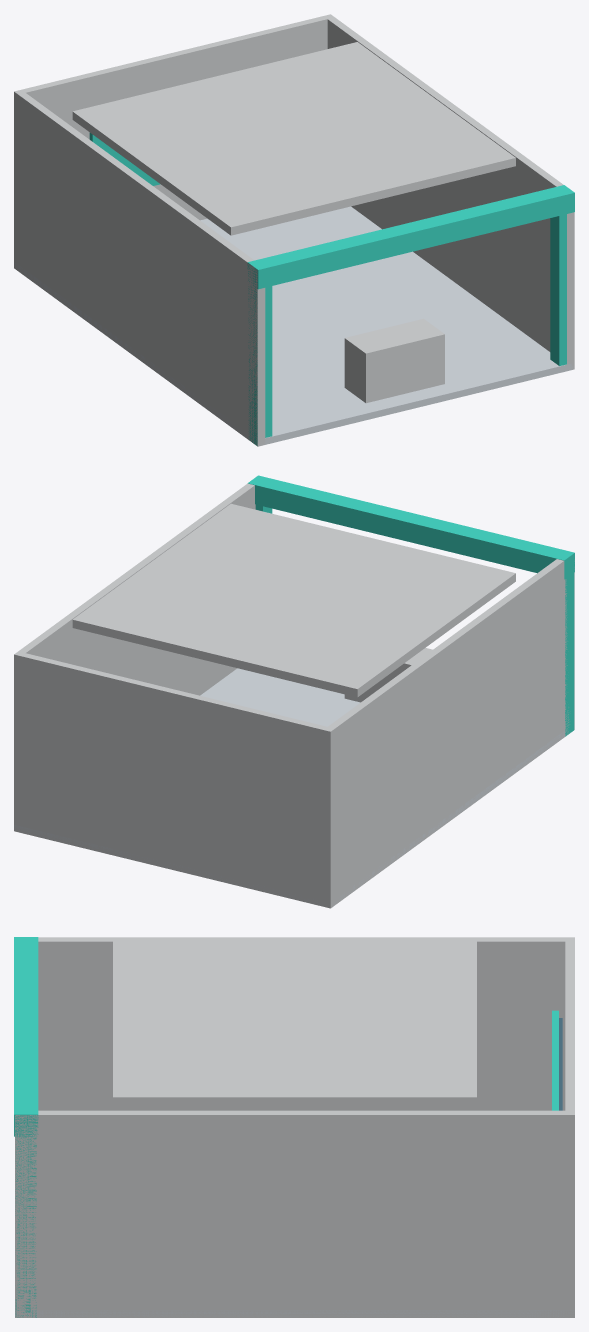
3 views of the same model, one above another, from view 1: azimuth 30°, elevation 25°; view 2: azimuth 150°, elevation 25°; view 3: azimuth 270°, elevation 25° (orthographic). The views are drawn at different scales.
Parts seen in each view (by area): view 1: Exhibition Booth Concept; view 2: Exhibition Booth Concept; view 3: Exhibition Booth Concept.
Boxes of the visible parts, x1=… form: Exhibition Booth Concept: x1=14, y1=14, x2=574, y2=446; Exhibition Booth Concept: x1=14, y1=475, x2=574, y2=908; Exhibition Booth Concept: x1=14, y1=937, x2=574, y2=1317.
Bounding box in the file's own units: 6 × 3.34 × 8.01.
